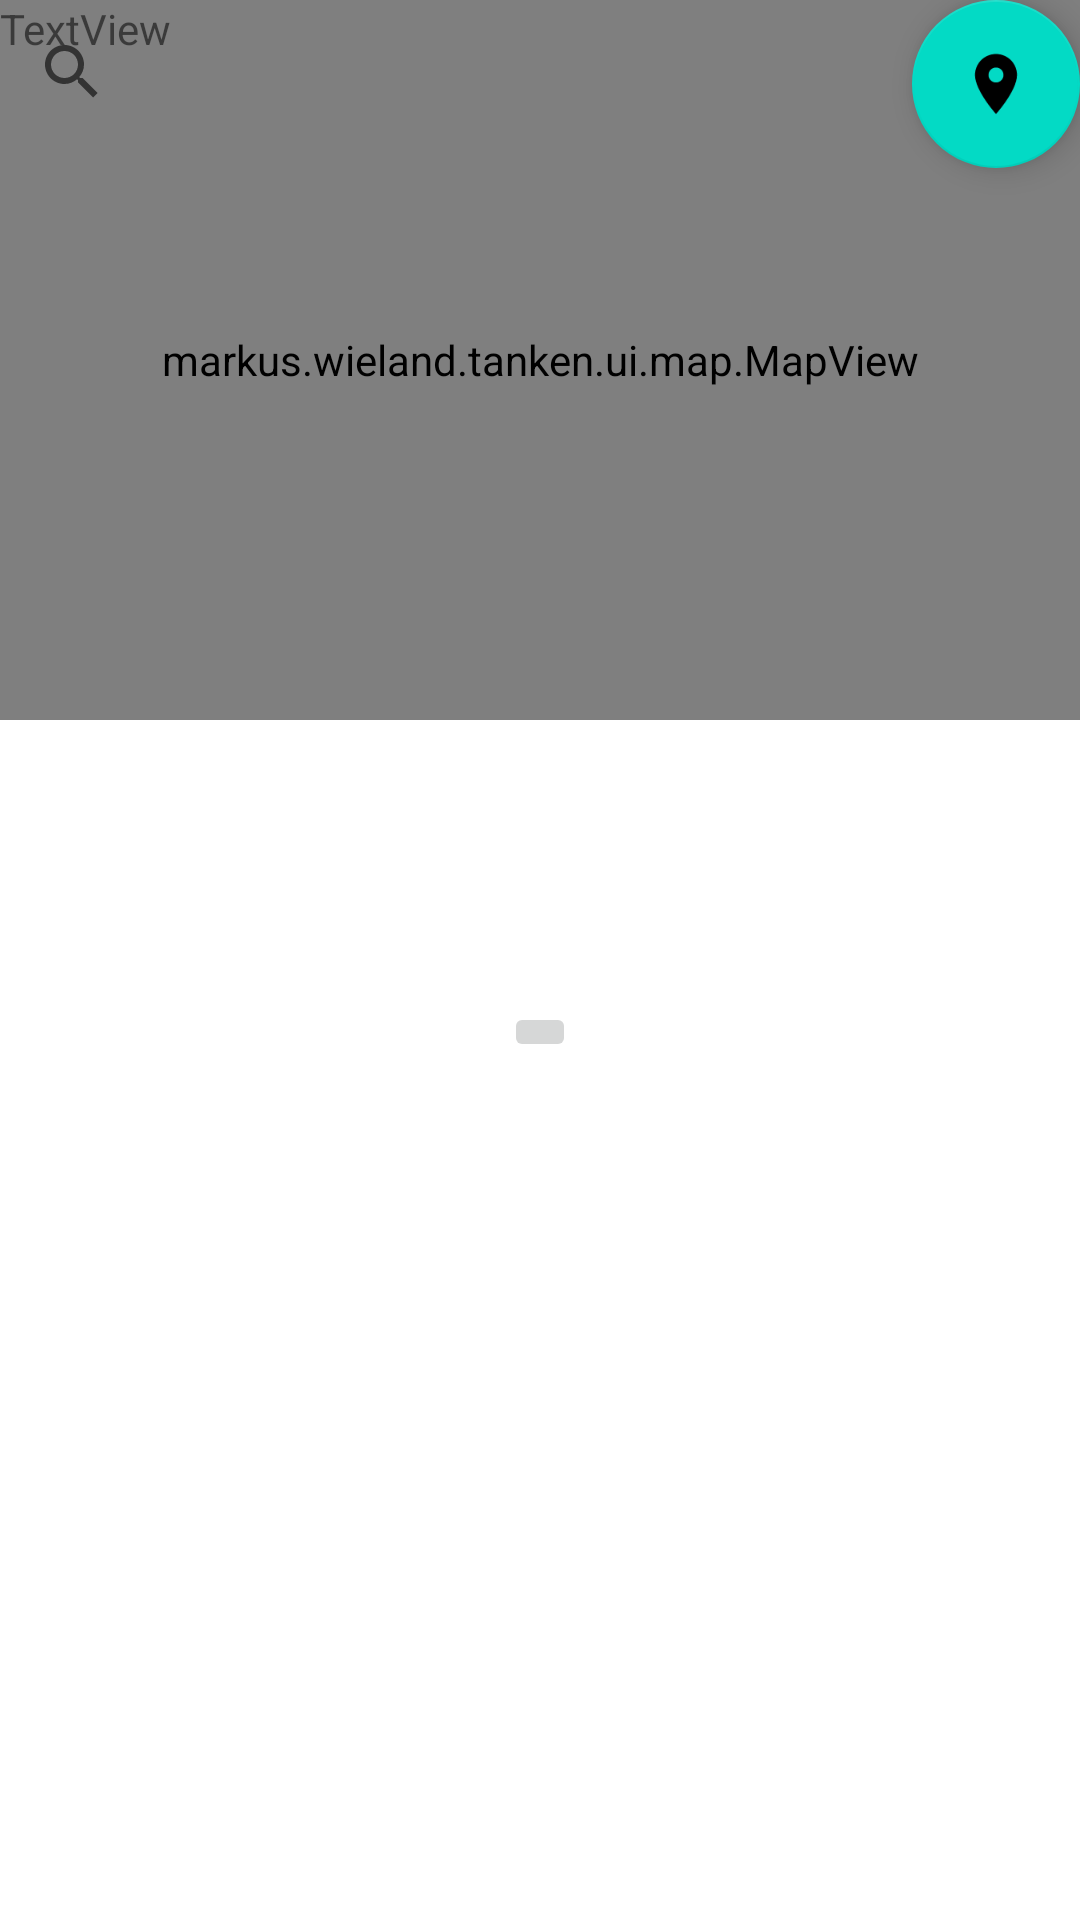

Icons on this 1080*1920 Android screen, each with the point to tap as point (x, y):
marker: point (996, 84)
